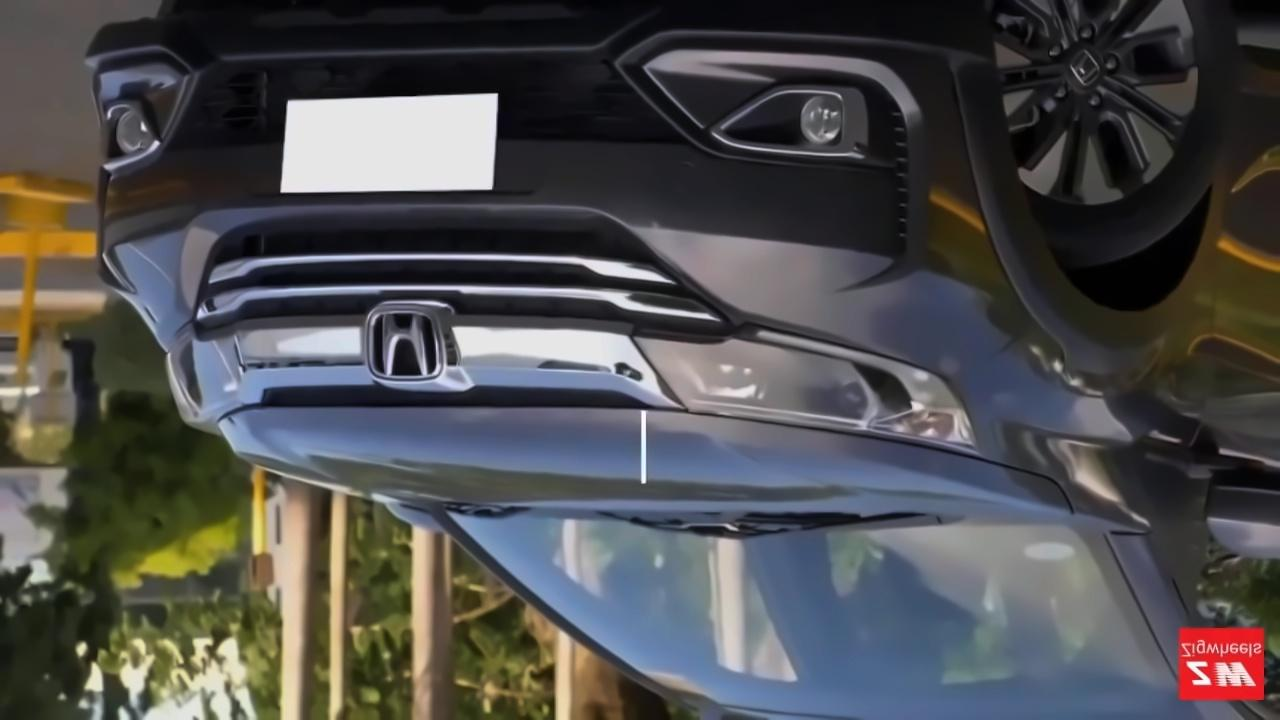Car hood: (216, 397, 1082, 533)
Front bumper: (81, 13, 1030, 345)
Headlight - -L-: (165, 316, 242, 438)
Headlight - -R-: (630, 311, 984, 461)
Side mirror - -R-: (1178, 430, 1280, 573)
